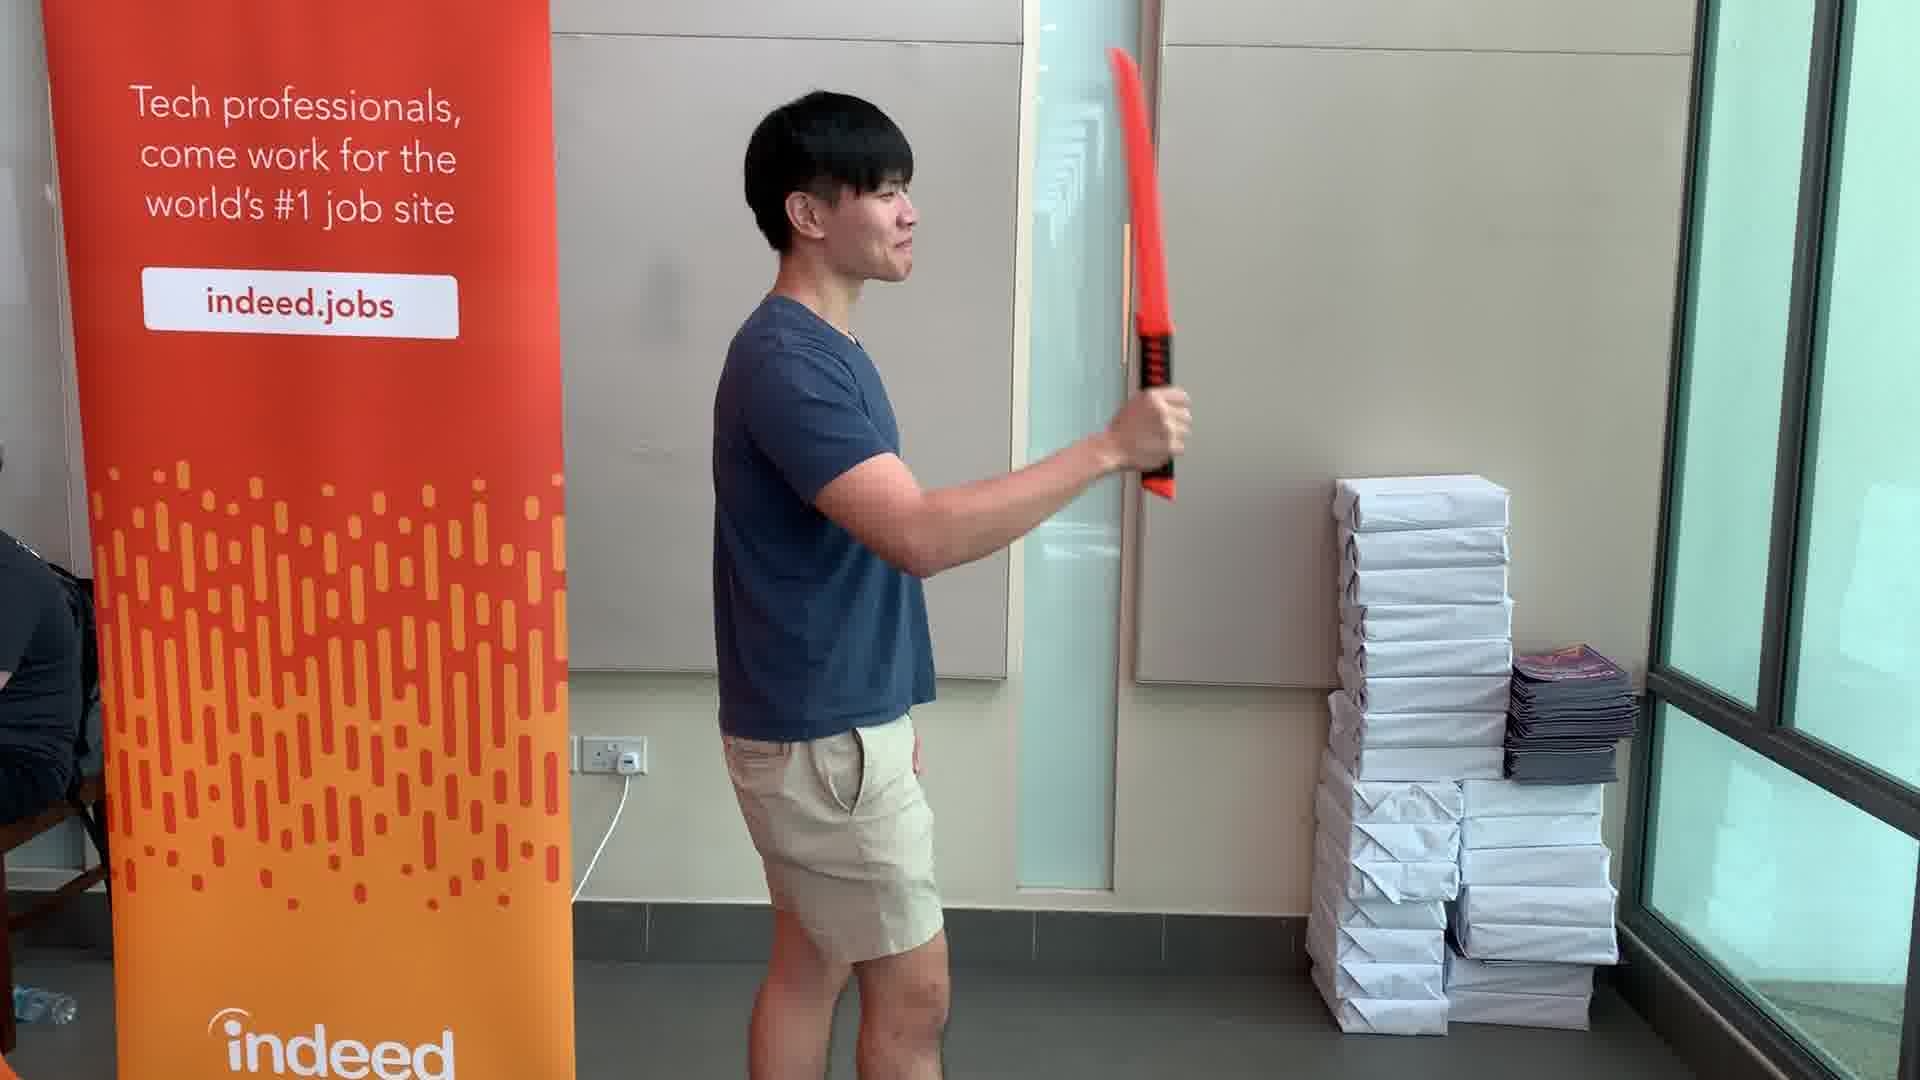knife: (1102, 42, 1188, 514)
